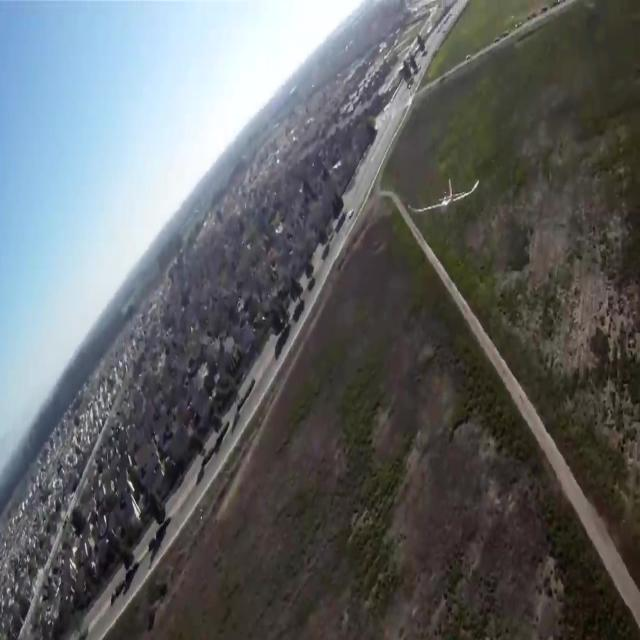iha: (442, 174, 445, 216)
